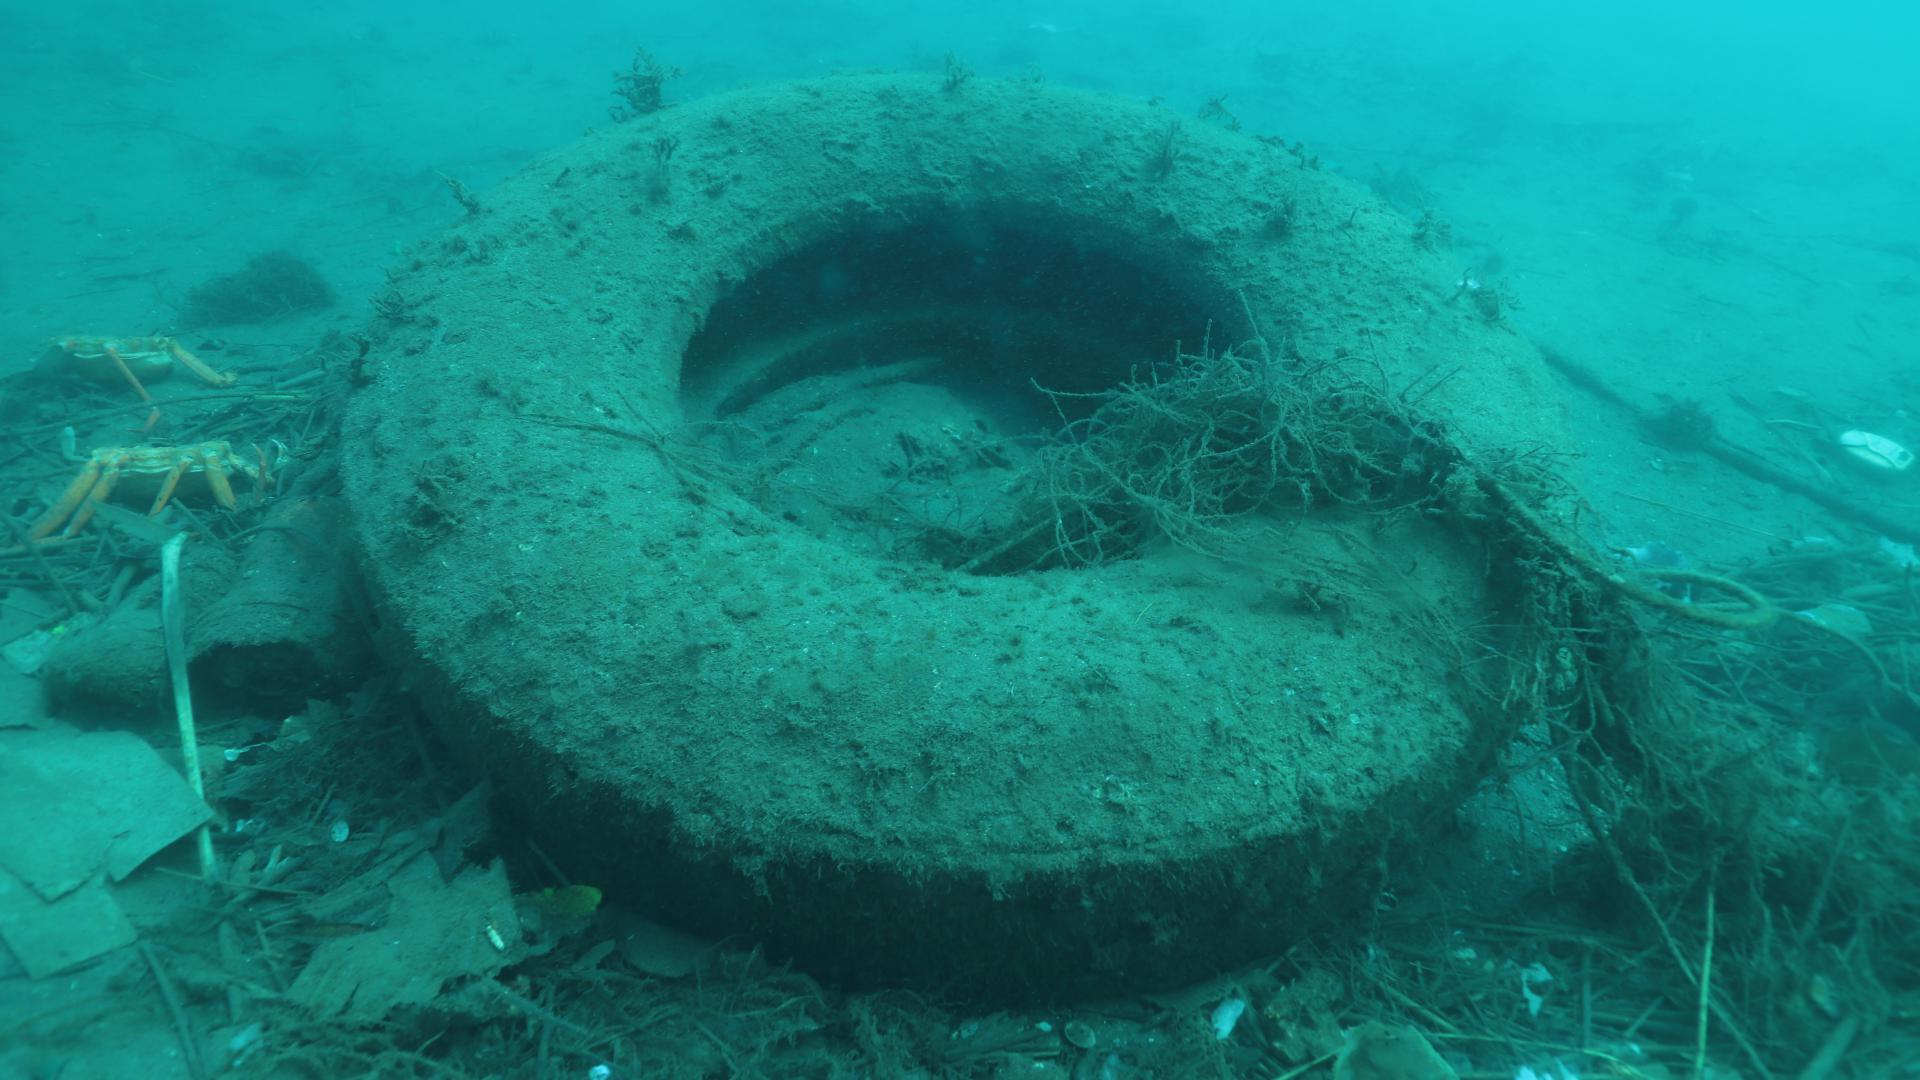tire: (338, 67, 1567, 1009)
